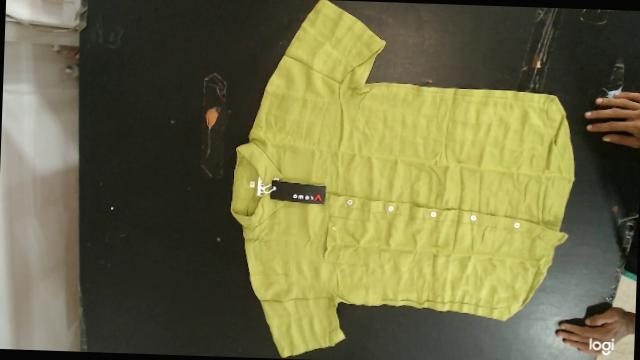new-garment: (231, 0, 574, 357)
